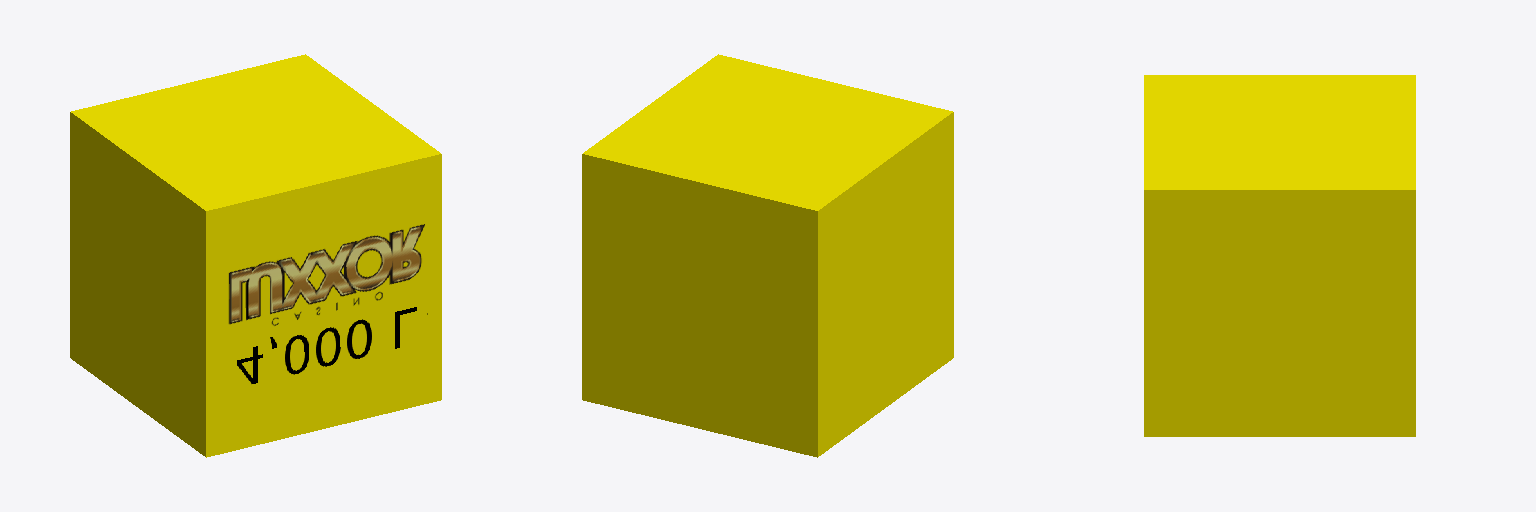
The picture shows the model from 3 angles: view 1: azimuth 30°, elevation 25°; view 2: azimuth 150°, elevation 25°; view 3: azimuth 270°, elevation 25°; orthographic projection.
Visible parts, largest first — view 1: Cube; view 2: Cube; view 3: Cube.
Part boxes in pixels (x1,y1,x2,y2): Cube: (70, 54, 441, 457); Cube: (582, 54, 953, 457); Cube: (1144, 75, 1415, 436).
Size of the model in its own units: 3.86 by 3.86 by 3.86.
Materials: 1 (1 with a texture image).